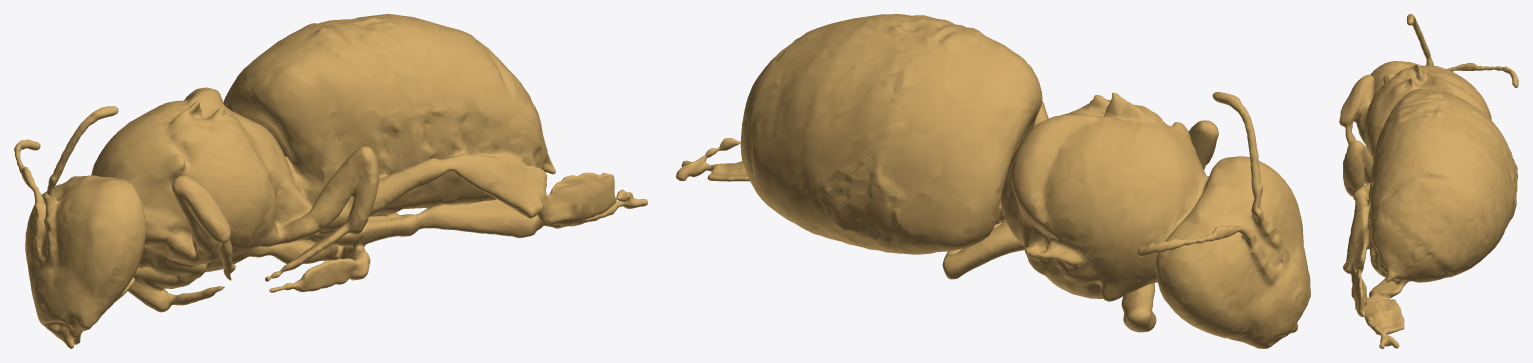
The model's file is bio3d2-honeybee.glb.
3 views of the same model, side by side, from view 1: azimuth 30°, elevation 25°; view 2: azimuth 150°, elevation 25°; view 3: azimuth 270°, elevation 25° (orthographic). The views are drawn at different scales.
Visible parts, largest first — view 1: Object_2; view 2: Object_2; view 3: Object_2.
Boxes of the visible parts, x1,y1,x2,y2 form: Object_2: (14,14,647,348); Object_2: (676,14,1310,348); Object_2: (1339,14,1518,348).
Bounding box in the file's own units: 11 × 4.15 × 4.04.
